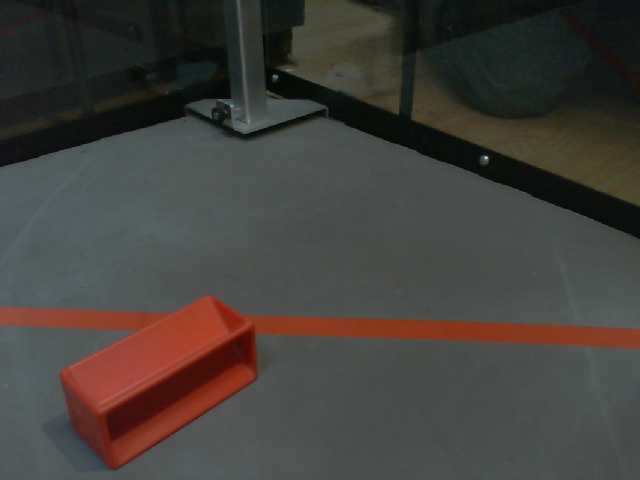RedSample: (60, 295, 255, 471)
